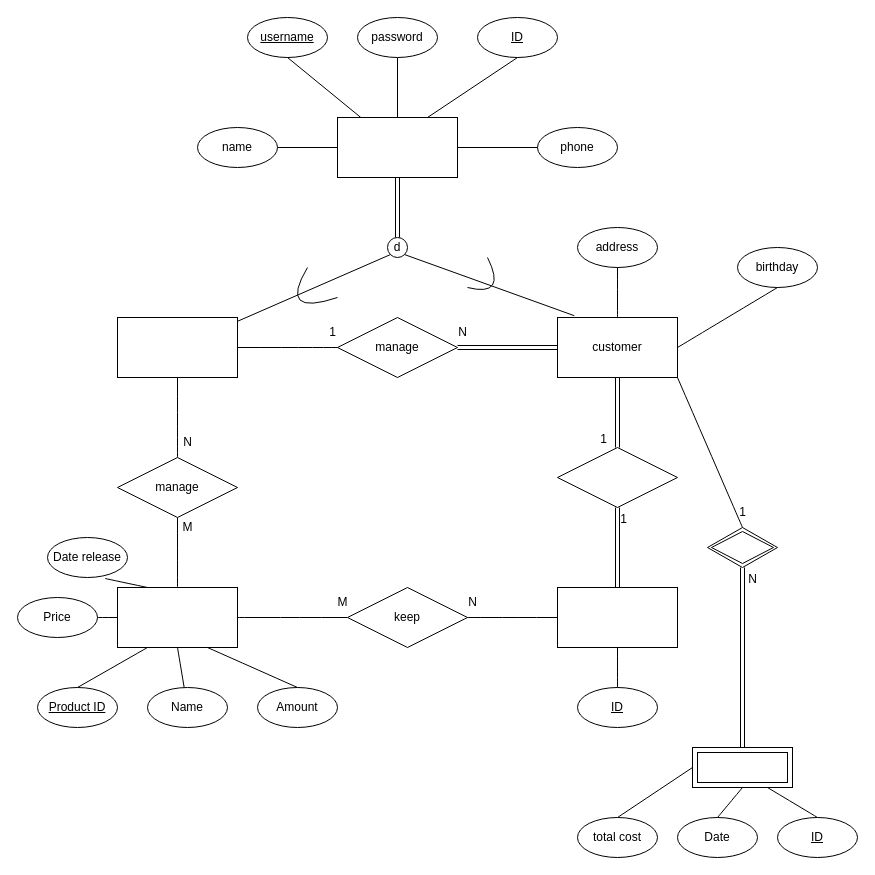
Image size: 875x875. Some labels were removed from this diagram. The centre of each missing label's shape, as x and y in pixels:
account: point 397,147
admin: point 177,347
Bill: point 742,767
cart: point 617,617
Of: point 742,547
product: point 177,617
use: point 617,477
